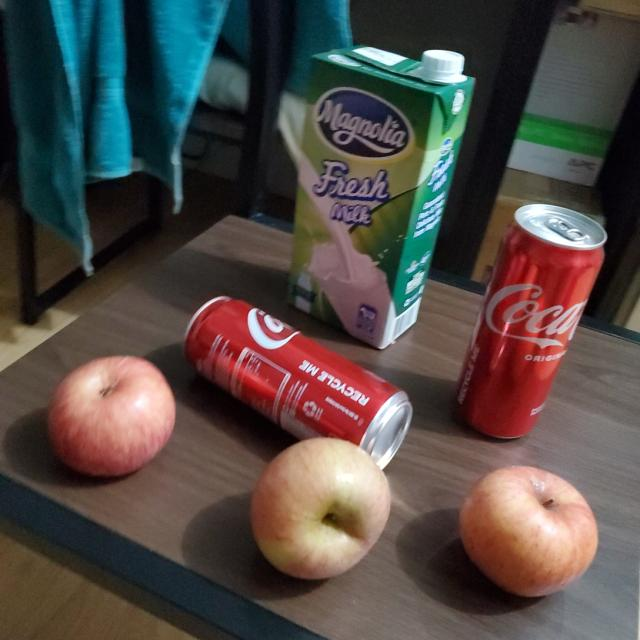apple: (249, 440, 388, 582), (462, 471, 600, 602), (46, 356, 176, 478)
coke: (180, 293, 412, 467), (455, 202, 609, 438)
milk: (280, 46, 480, 358)
